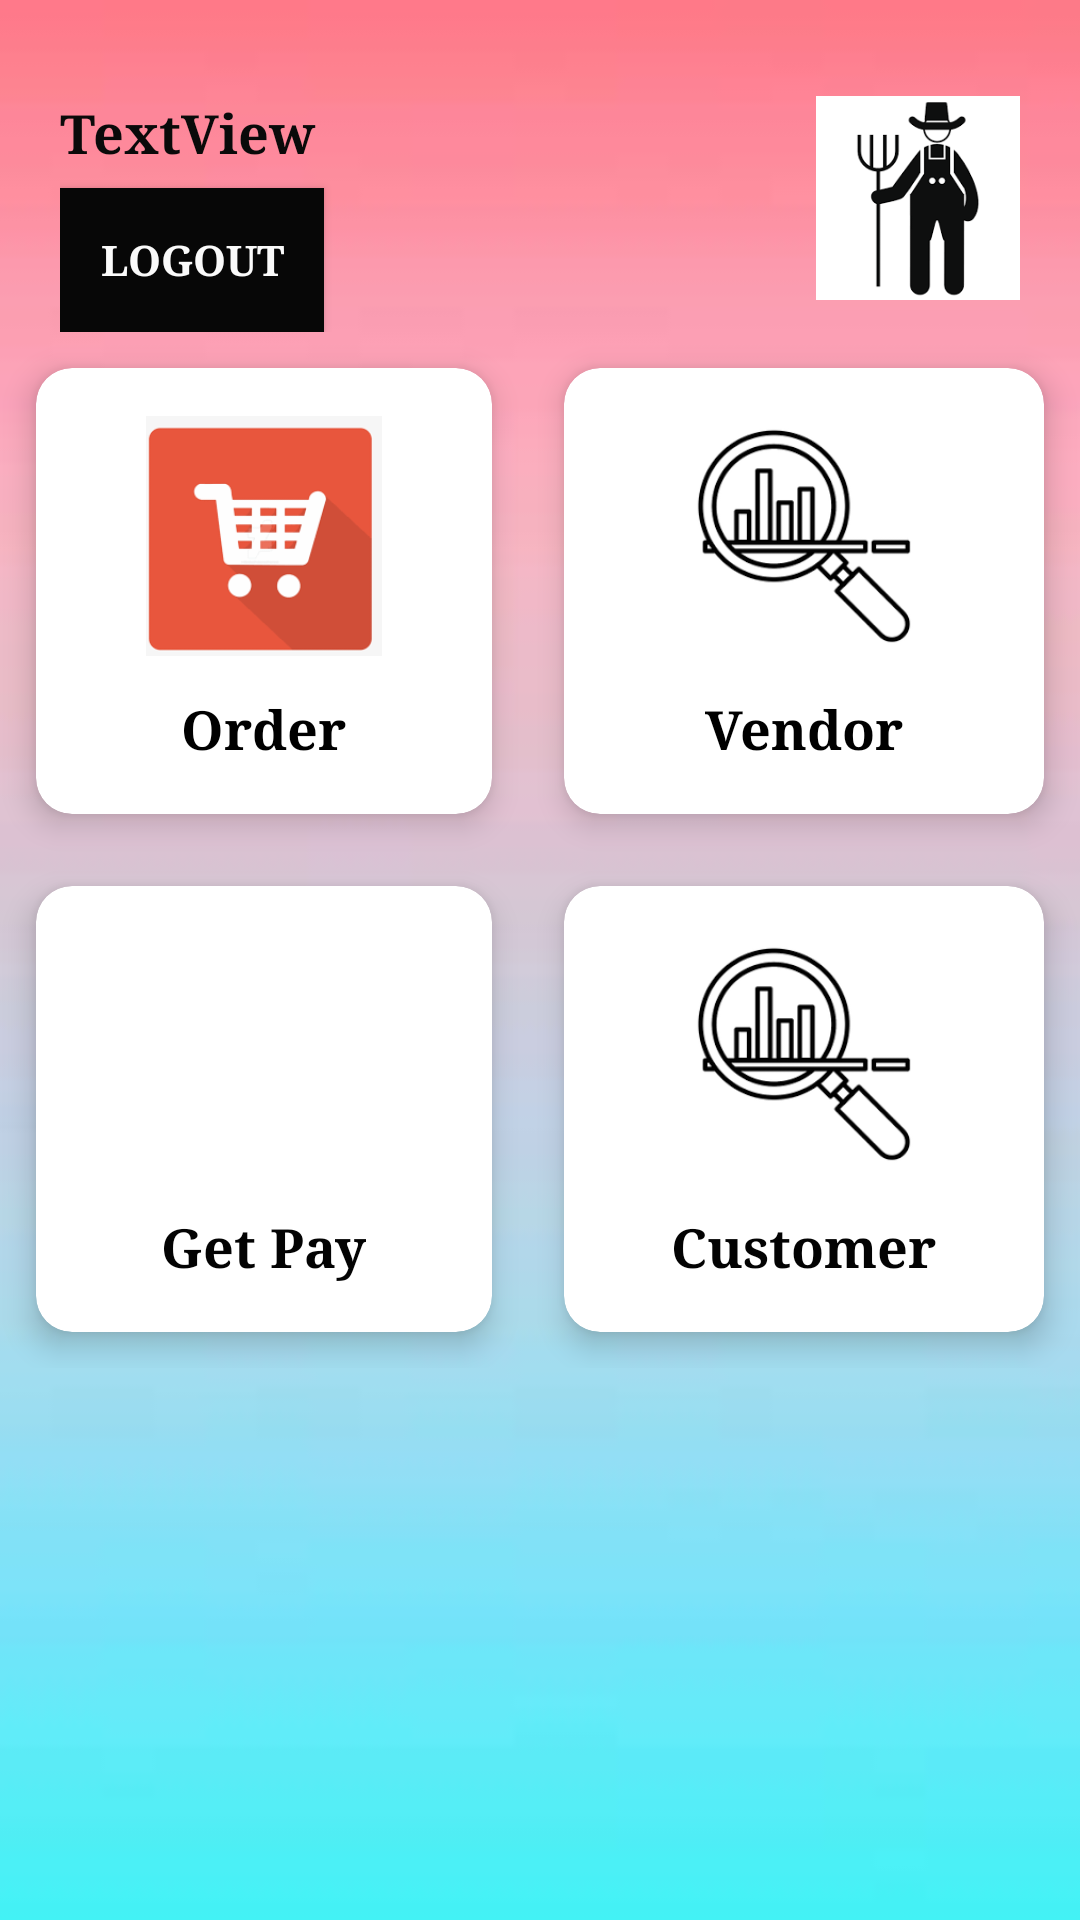

Icon click points for this 1080 × 1920 phone screenshot, format (x,y):
analysis: (804,536), (804,1054)
farmer: (918,198)
